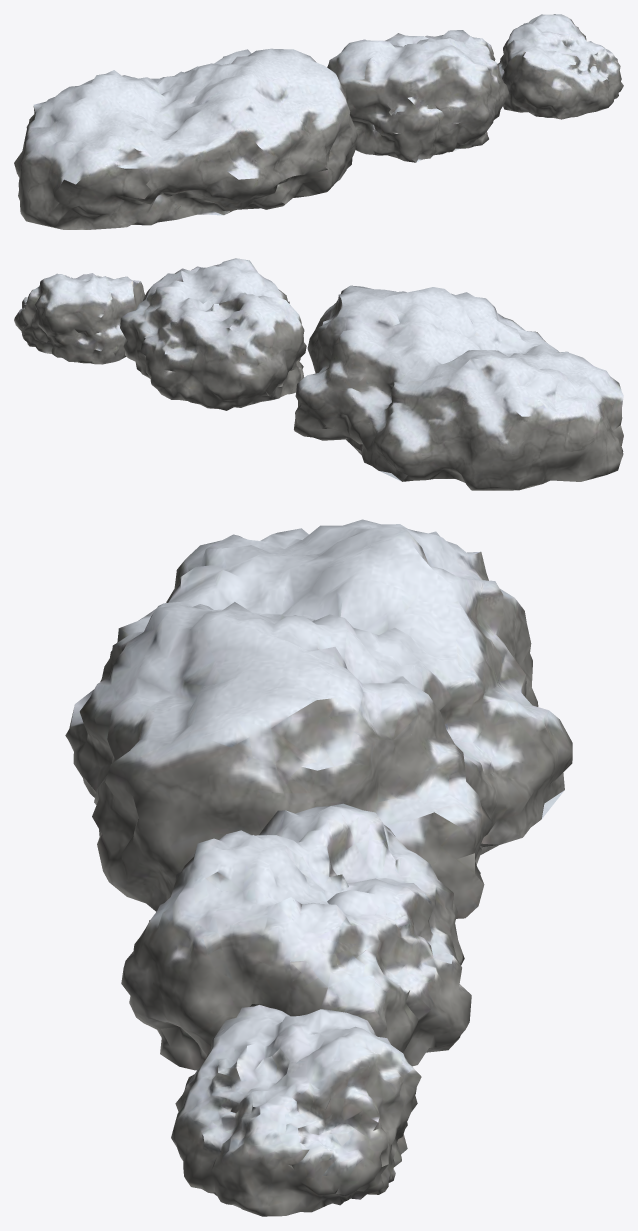
File: snow_rocks.glb
The picture shows the model from 3 angles, top to bottom: view 1: azimuth 30°, elevation 25°; view 2: azimuth 150°, elevation 25°; view 3: azimuth 270°, elevation 25°; orthographic projection. The views are drawn at different scales.
Parts seen in each view (by area): view 1: rock_a, rock_b, rock_c; view 2: rock_a, rock_b, rock_c; view 3: rock_a, rock_b, rock_c.
Boxes of the visible parts, x1,y1,x2,y2 form: rock_a: (14, 48, 357, 229); rock_b: (327, 30, 509, 162); rock_c: (498, 14, 623, 119); rock_a: (294, 285, 623, 490); rock_b: (120, 258, 306, 410); rock_c: (14, 273, 144, 364); rock_a: (65, 519, 572, 918); rock_b: (121, 803, 471, 1070); rock_c: (171, 1005, 421, 1216).
Size of the model in its own units: 7.27 by 1.36 by 2.72.
Materials: 1 (1 with a texture image).
